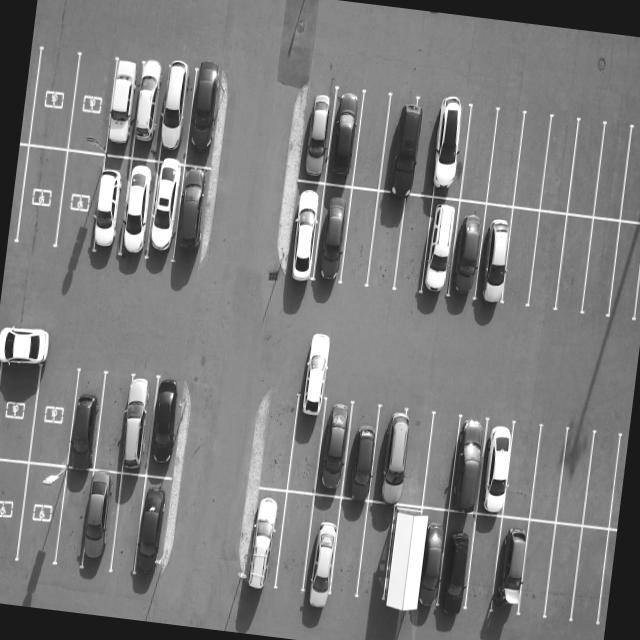car: (395, 508, 450, 621), (431, 507, 484, 619), (15, 459, 70, 566), (241, 486, 290, 598), (298, 490, 347, 600), (132, 475, 180, 585), (170, 164, 220, 267), (376, 91, 426, 194), (471, 204, 519, 311), (488, 512, 536, 618), (367, 408, 417, 509), (83, 152, 129, 261), (78, 470, 124, 577), (62, 365, 108, 471), (310, 184, 356, 290), (117, 156, 162, 264), (444, 415, 493, 514), (337, 401, 385, 502), (310, 396, 357, 498), (143, 376, 190, 478), (442, 198, 487, 304), (471, 418, 518, 518), (417, 195, 462, 299), (142, 160, 186, 266), (286, 394, 331, 497), (286, 178, 327, 288), (114, 376, 158, 478), (184, 66, 228, 167), (427, 104, 472, 202), (324, 89, 367, 190), (152, 63, 194, 164), (102, 58, 142, 158), (298, 86, 338, 186), (130, 61, 169, 160)
free: (27, 356, 84, 468), (90, 370, 148, 476), (54, 148, 107, 260), (456, 508, 509, 618), (14, 144, 66, 254), (377, 505, 428, 615), (26, 44, 78, 151), (270, 491, 320, 602), (510, 518, 561, 623), (67, 51, 117, 156), (567, 525, 616, 630), (536, 522, 585, 626), (322, 498, 370, 604), (49, 466, 96, 572), (548, 428, 596, 530), (104, 473, 148, 580), (389, 193, 435, 295), (580, 429, 626, 531), (0, 350, 41, 464), (415, 412, 462, 511), (350, 90, 396, 190), (526, 422, 572, 522), (577, 216, 621, 320), (338, 189, 382, 292), (528, 210, 572, 313), (552, 215, 596, 318), (498, 207, 542, 310), (501, 421, 546, 521), (352, 504, 397, 604), (392, 413, 437, 511), (590, 121, 634, 220), (454, 106, 497, 205), (564, 120, 607, 218), (364, 188, 406, 288), (509, 114, 552, 211), (540, 117, 582, 215), (485, 110, 527, 208), (406, 100, 444, 202), (608, 220, 640, 326), (0, 457, 27, 566), (619, 124, 640, 223)
